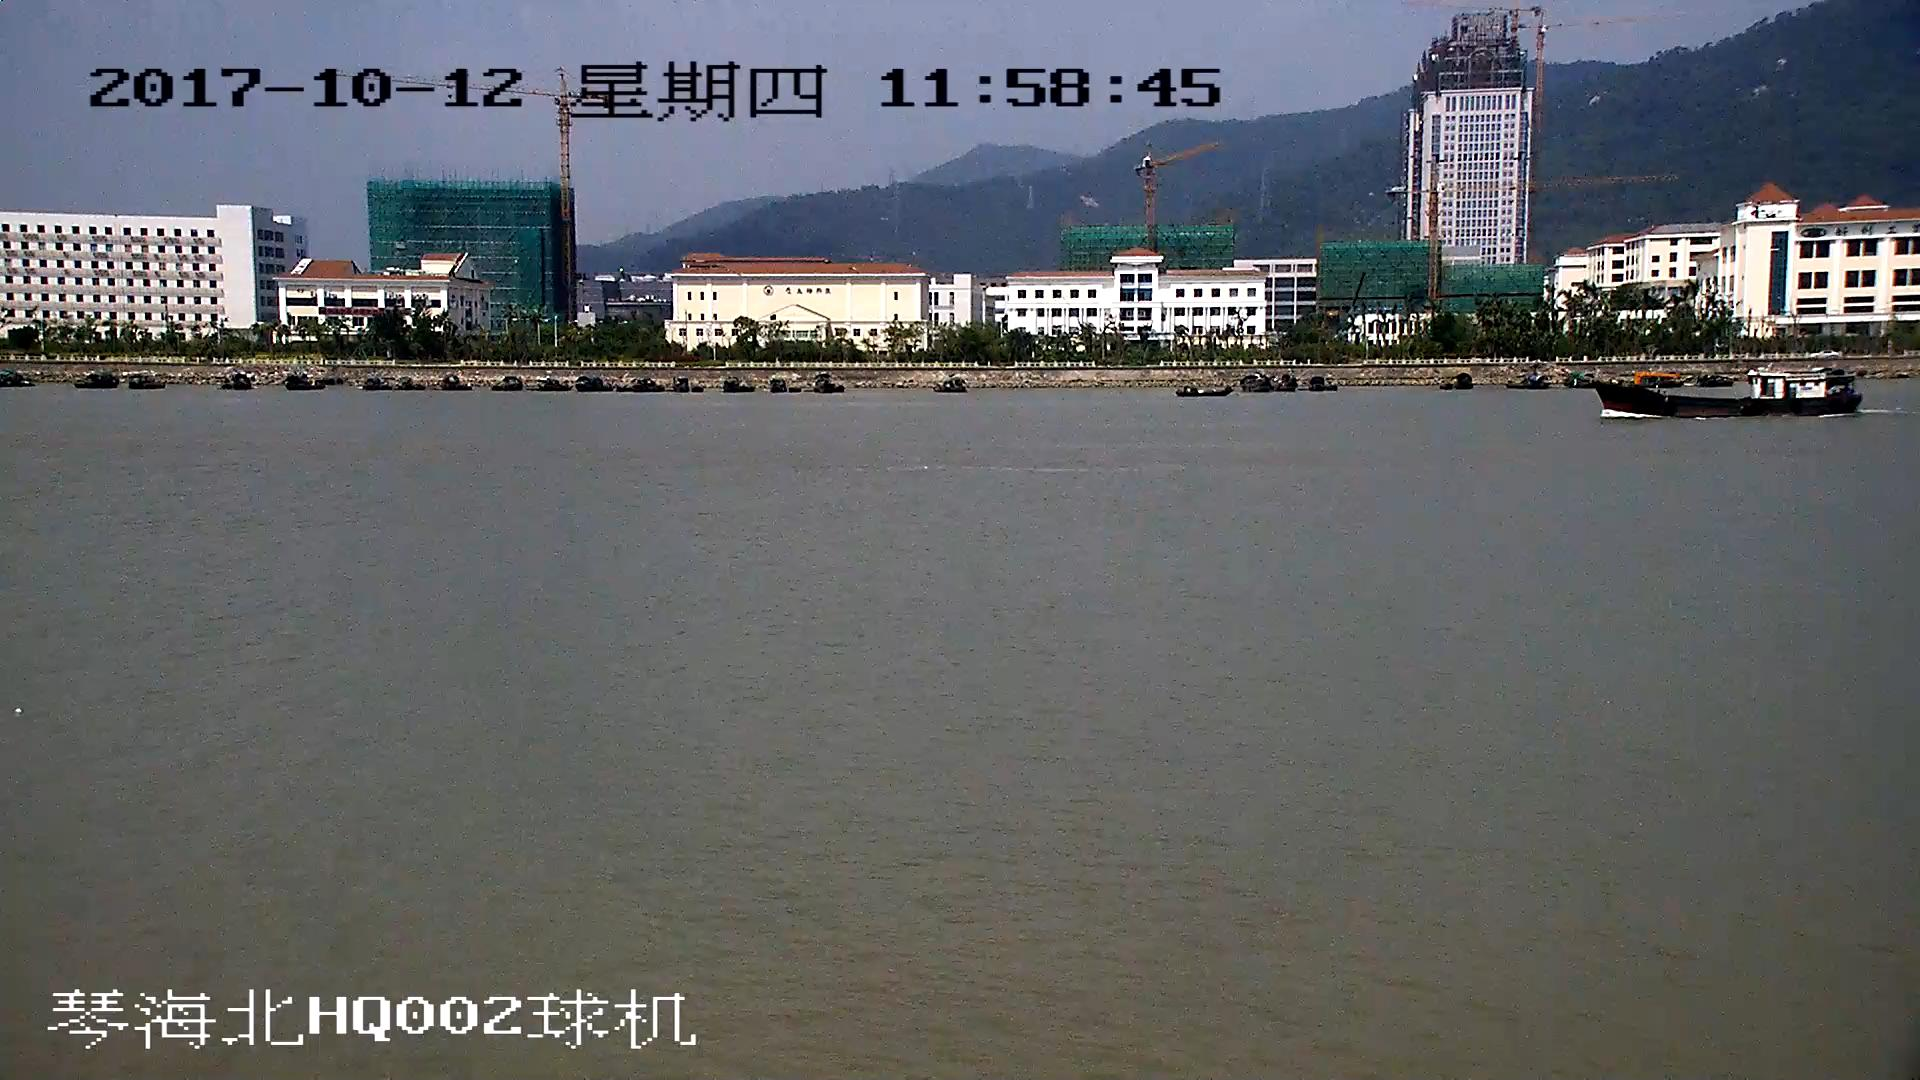fishing boat: (1593, 369, 1861, 418)
